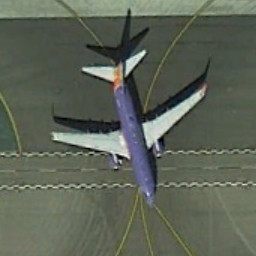Airplane: (46, 41, 216, 208)
